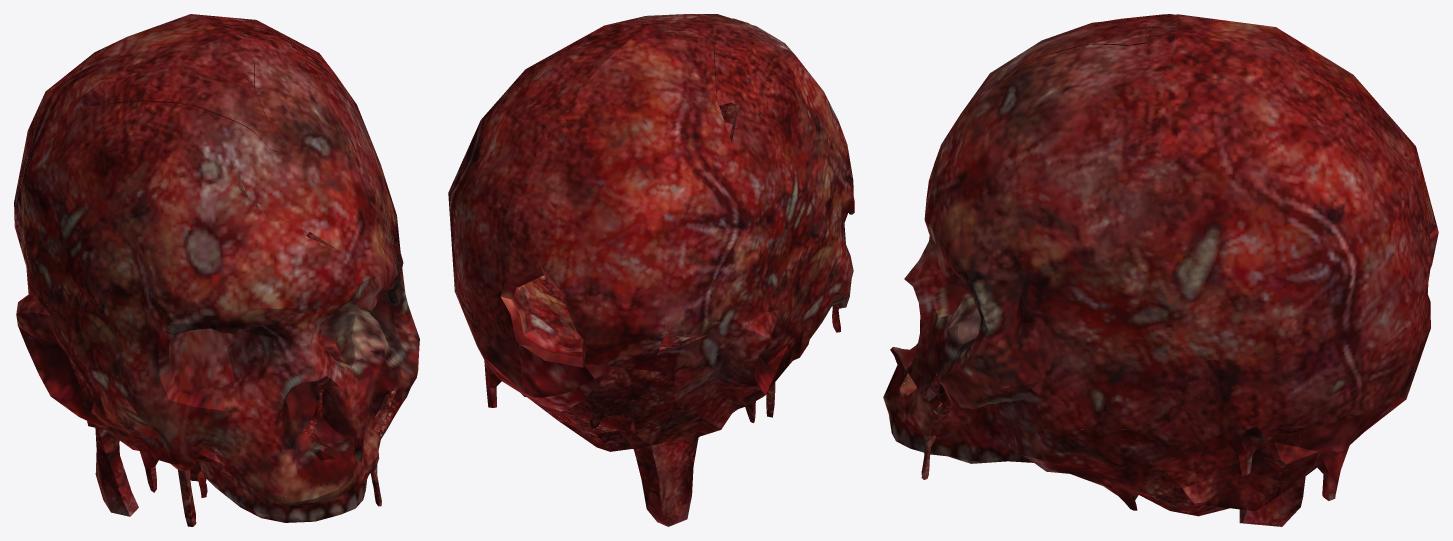
File: gore_skull.glb
3 views of the same model, side by side, from view 1: azimuth 30°, elevation 25°; view 2: azimuth 150°, elevation 25°; view 3: azimuth 270°, elevation 25° (orthographic). The views are drawn at different scales.
Visible parts, largest first — view 1: Object_7; view 2: Object_7; view 3: Object_7.
Boxes of the visible parts, box(x1,y1,x2,y2) form: Object_7: box(14, 14, 419, 526); Object_7: box(448, 14, 854, 526); Object_7: box(883, 14, 1438, 526).
Size of the model in its own units: 0.1143 by 0.1655 by 0.1583.
1 material, 1 textured.
